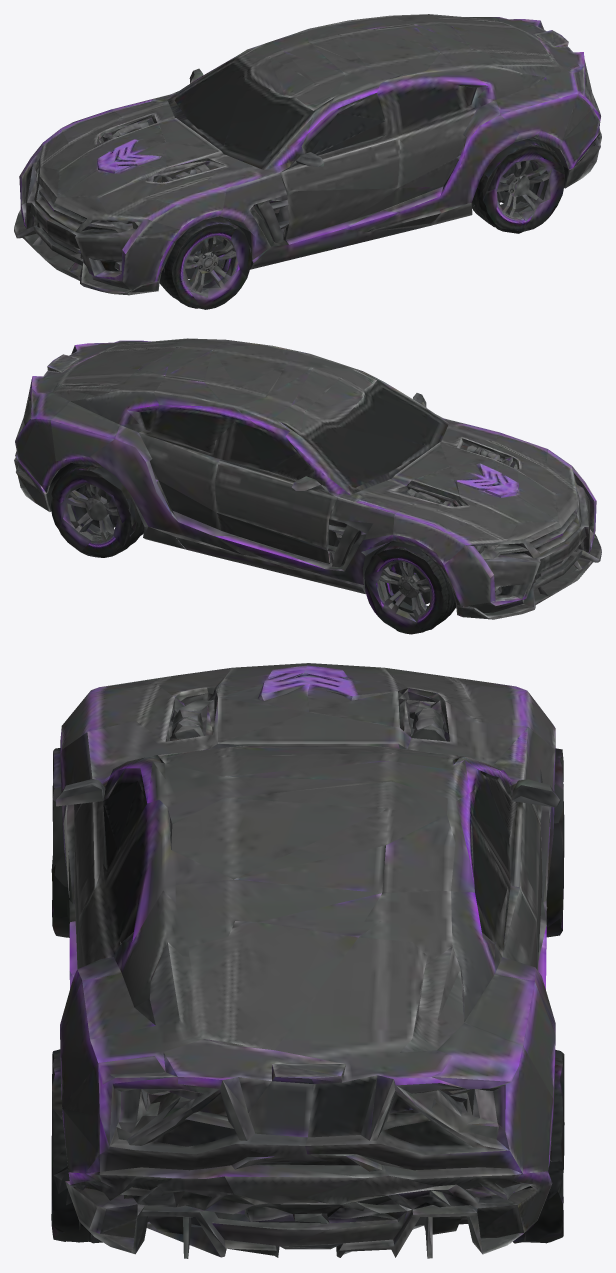
File: vehicon-car.glb
The picture shows the model from 3 angles, top to bottom: view 1: azimuth 30°, elevation 25°; view 2: azimuth 150°, elevation 25°; view 3: azimuth 270°, elevation 25°; orthographic projection. The views are drawn at different scales.
Visible parts, largest first — view 1: Mesh_0; view 2: Mesh_0; view 3: Mesh_0.
Part boxes in pixels (x1,y1,x2,y2): Mesh_0: [14, 14, 601, 309]; Mesh_0: [14, 338, 601, 634]; Mesh_0: [51, 663, 564, 1258].
Size of the model in its own units: 1.9 by 0.5616 by 0.8017.
Materials: 1 (1 with a texture image).
